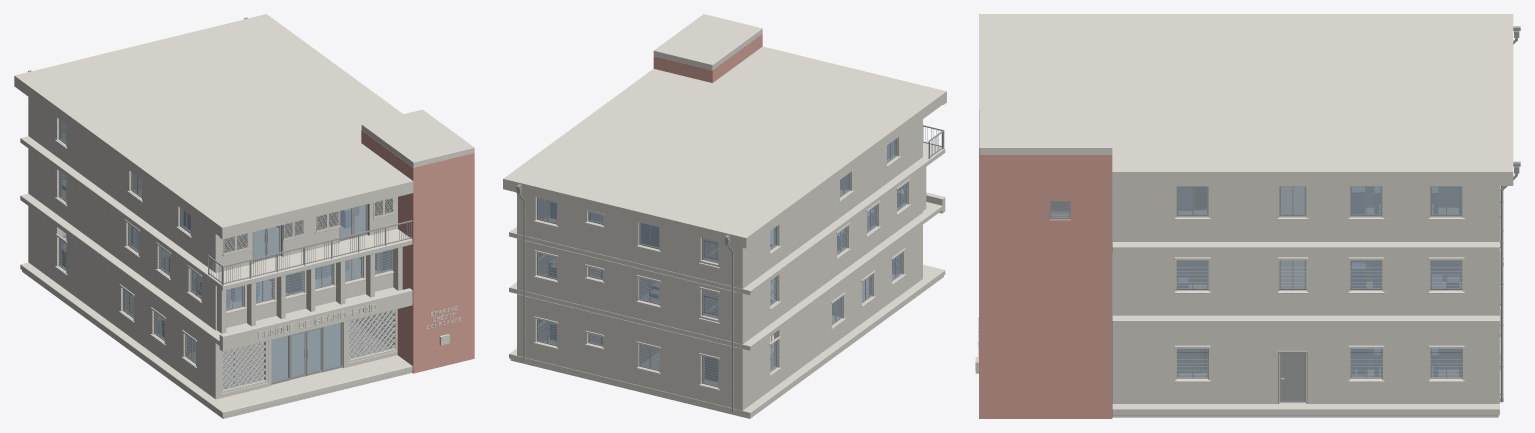
The model's file is fond_h15.glb.
The picture shows the model from 3 angles, left to right: view 1: azimuth 30°, elevation 25°; view 2: azimuth 150°, elevation 25°; view 3: azimuth 270°, elevation 25°; orthographic projection. The views are drawn at different scales.
Visible parts, largest first — view 1: Slab_Roof, Tower_Body, Wall_F0_West, Slab_Ground_Landing, concrete_cast, Wall_F1_West, glass, Slab_Floor1_Canopy, Wall_F2_West, Slab_Floor2_Balcony, Tower_Cap, steel_painted_worn (+12 smaller); view 2: Slab_Roof, Wall_F0_Back, Wall_F0_West, Wall_F1_Back, Wall_F1_West, Wall_F2_Back, Wall_F2_West, glass, Slab_Ground_Landing, Slab_Floor1_Canopy, Slab_Floor2_Balcony, concrete_cast (+9 smaller); view 3: Slab_Roof, Tower_Body, Wall_F0_East, Wall_F1_East, Wall_F2_East, glass, Tower_Cap, Slab_Floor1_Canopy, Slab_Floor2_Balcony, Slab_Ground_Landing, paint_clean, aluminium_weathered (+5 smaller).
Part boxes in pixels (left/top/right/bottom): Slab_Roof: left=14, top=14, right=413, bottom=239; Tower_Body: left=361, top=130, right=474, bottom=373; Wall_F0_West: left=28, top=206, right=221, bottom=399; Slab_Ground_Landing: left=20, top=262, right=412, bottom=416; concrete_cast: left=14, top=85, right=402, bottom=393; Wall_F1_West: left=28, top=148, right=216, bottom=330; glass: left=60, top=120, right=393, bottom=388; Slab_Floor1_Canopy: left=20, top=190, right=412, bottom=351; Wall_F2_West: left=28, top=97, right=221, bottom=272; Slab_Floor2_Balcony: left=20, top=132, right=412, bottom=290; Tower_Cap: left=361, top=109, right=474, bottom=167; steel_painted_worn: left=58, top=130, right=412, bottom=363; Slab_Roof: left=503, top=46, right=946, bottom=248; Wall_F0_Back: left=522, top=295, right=737, bottom=409; Wall_F0_West: left=737, top=225, right=922, bottom=410; Wall_F1_Back: left=522, top=240, right=737, bottom=342; Wall_F1_West: left=737, top=169, right=922, bottom=344; Wall_F2_Back: left=522, top=194, right=737, bottom=287; Wall_F2_West: left=737, top=119, right=922, bottom=288; glass: left=538, top=139, right=905, bottom=385; Slab_Ground_Landing: left=509, top=264, right=945, bottom=416; Slab_Floor1_Canopy: left=509, top=192, right=945, bottom=350; Slab_Floor2_Balcony: left=509, top=143, right=945, bottom=295; concrete_cast: left=503, top=97, right=946, bottom=390; Slab_Roof: left=979, top=14, right=1513, bottom=185; Tower_Body: left=979, top=155, right=1112, bottom=418; Wall_F0_East: left=1112, top=326, right=1499, bottom=403; Wall_F1_East: left=1112, top=253, right=1499, bottom=315; Wall_F2_East: left=1112, top=186, right=1499, bottom=241; glass: left=1051, top=186, right=1460, bottom=376; Tower_Cap: left=979, top=109, right=1112, bottom=154; Slab_Floor1_Canopy: left=1112, top=260, right=1499, bottom=326; Slab_Floor2_Balcony: left=1112, top=187, right=1499, bottom=252; Slab_Ground_Landing: left=1112, top=353, right=1499, bottom=415; paint_clean: left=1178, top=187, right=1460, bottom=372; aluminium_weathered: left=1049, top=186, right=1462, bottom=378.
Bounding box in the file's own units: 14 × 11.2 × 20.41.
